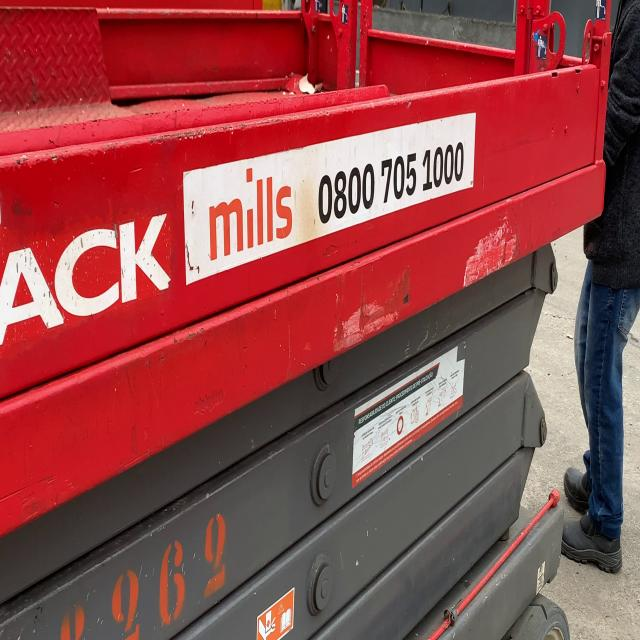Adesivo Longo: (180, 110, 477, 291)
